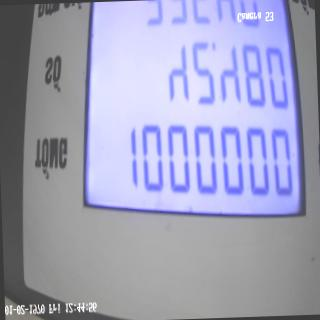screen: (74, 0, 309, 233)
